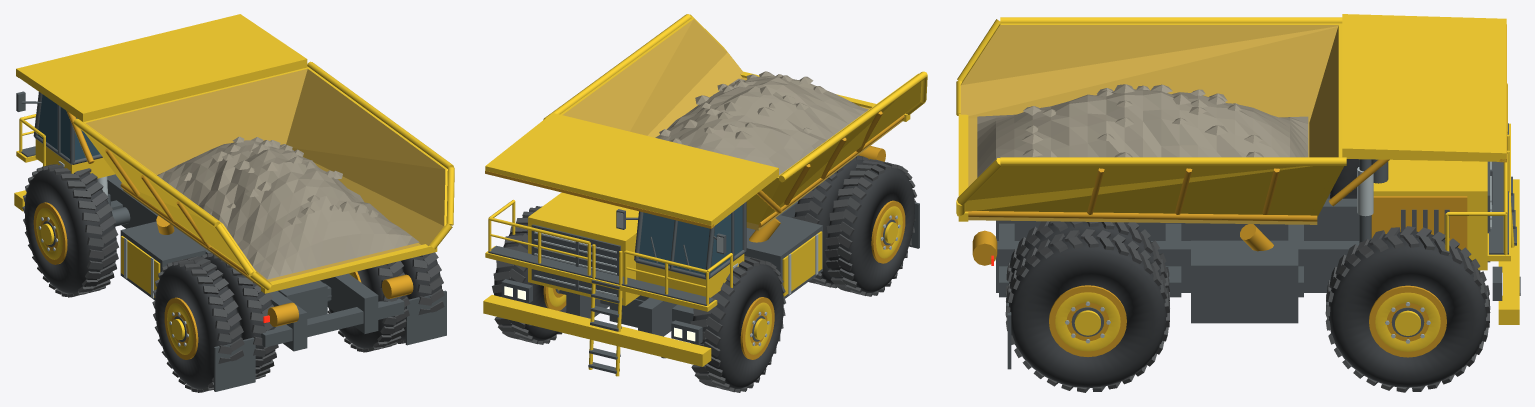
The model's file is truck-loaded.glb.
3 renders of one model, left to right at view 1: azimuth 30°, elevation 25°; view 2: azimuth 150°, elevation 25°; view 3: azimuth 270°, elevation 25°, orthographic. The views are drawn at different scales.
Visible parts, largest first — view 1: Yellow rigid mining haul truck; view 2: Yellow rigid mining haul truck; view 3: Yellow rigid mining haul truck.
Part boxes in pixels (left/top/right/bottom): Yellow rigid mining haul truck: left=14, top=14, right=454, bottom=392; Yellow rigid mining haul truck: left=483, top=14, right=927, bottom=392; Yellow rigid mining haul truck: left=956, top=14, right=1520, bottom=392.
Bounding box in the file's own units: 7.9 × 6.15 × 12.88.
